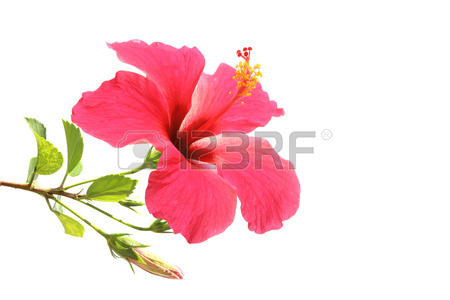Hibiscus: (69, 31, 320, 247)
